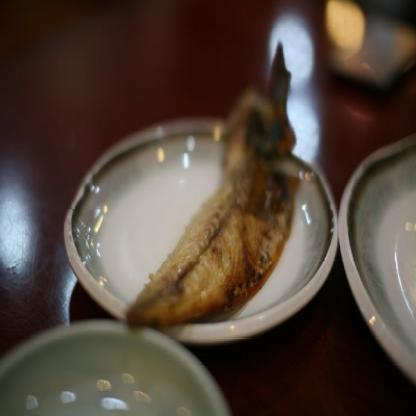Peixe: (115, 52, 310, 343)
